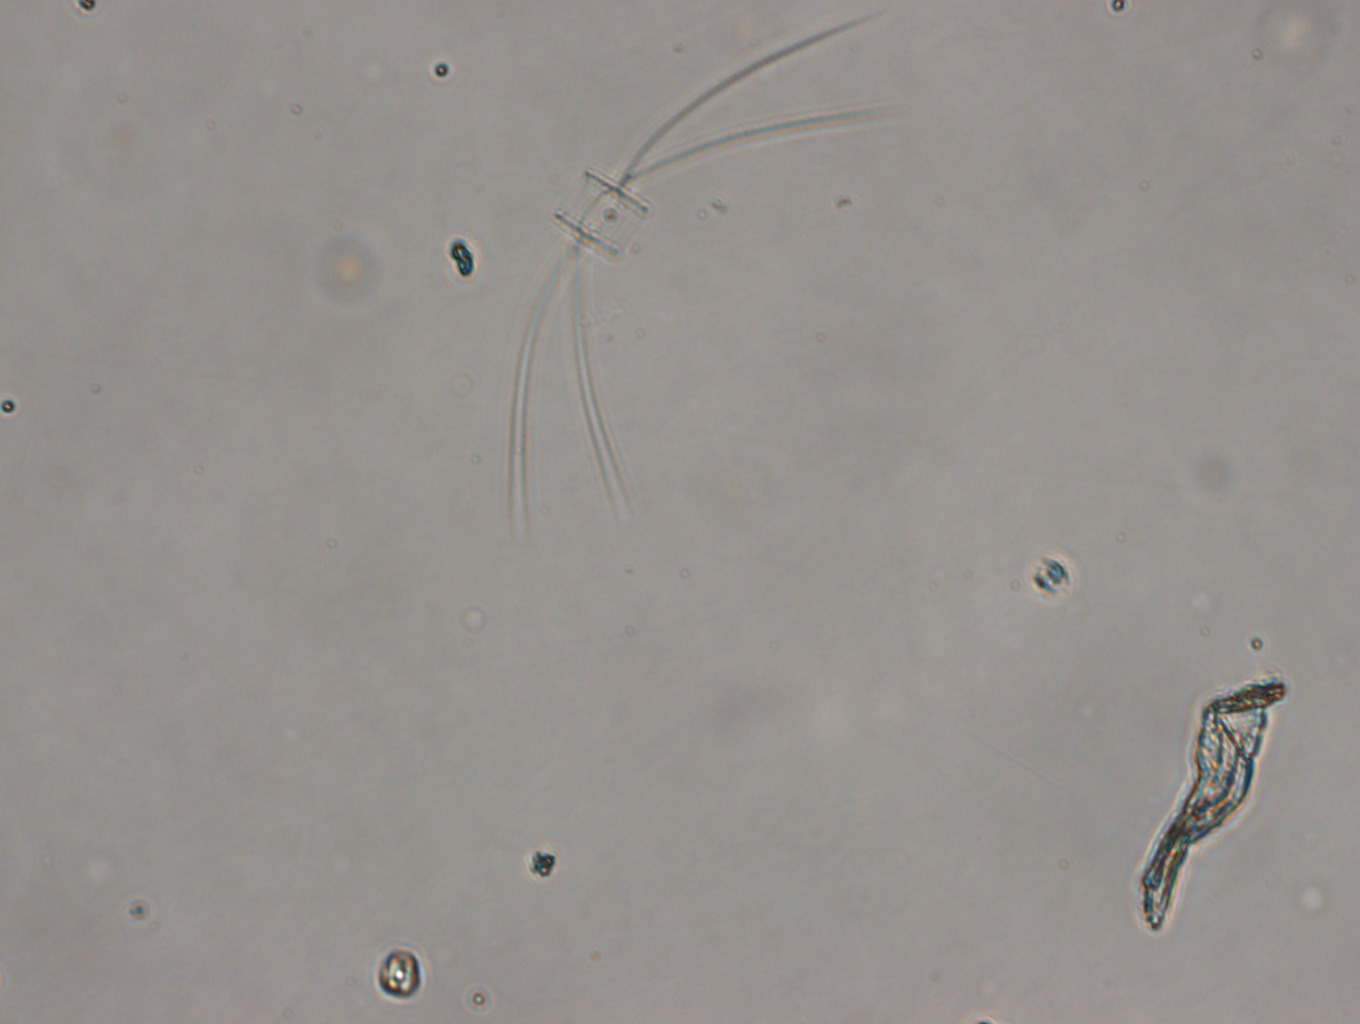chaetoceros: (496, 4, 894, 528)
